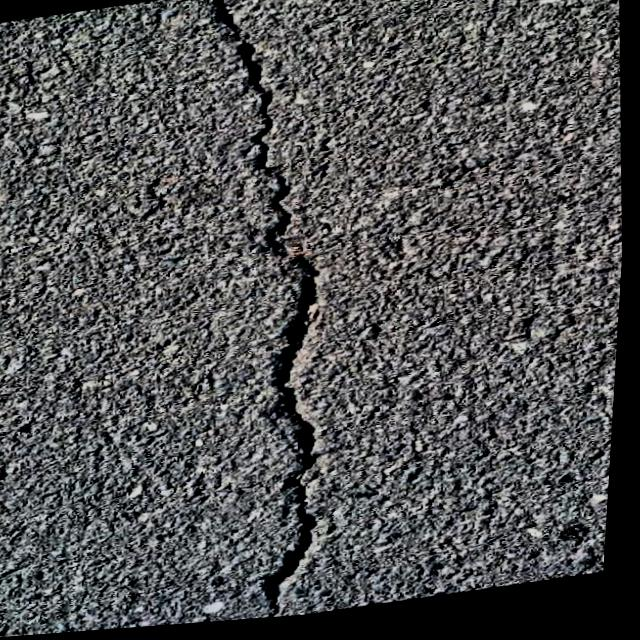cracks: (205, 0, 316, 617)
